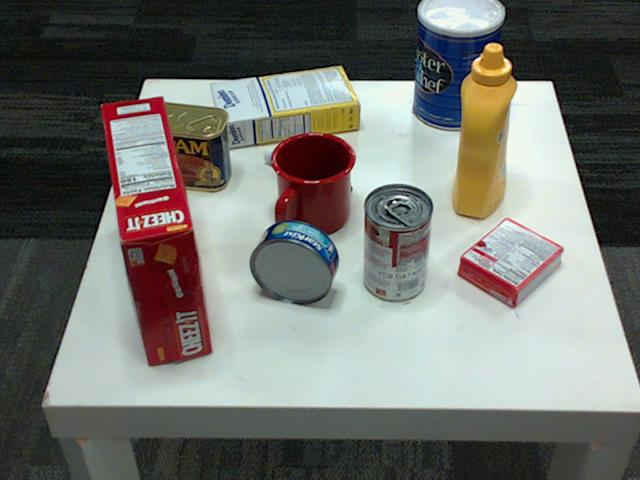cracker_box: (99, 94, 213, 363)
gelatin_box: (458, 218, 564, 307)
large_marker: (262, 150, 350, 195)
master_chef_can: (411, 0, 502, 129)
mug: (271, 129, 357, 233)
mustard_bottle: (451, 44, 517, 217)
potted_meat_can: (134, 103, 231, 190)
sugar_box: (210, 65, 360, 146)
tomato_soup_can: (364, 183, 433, 301)
tuna_fish_can: (251, 220, 340, 303)
